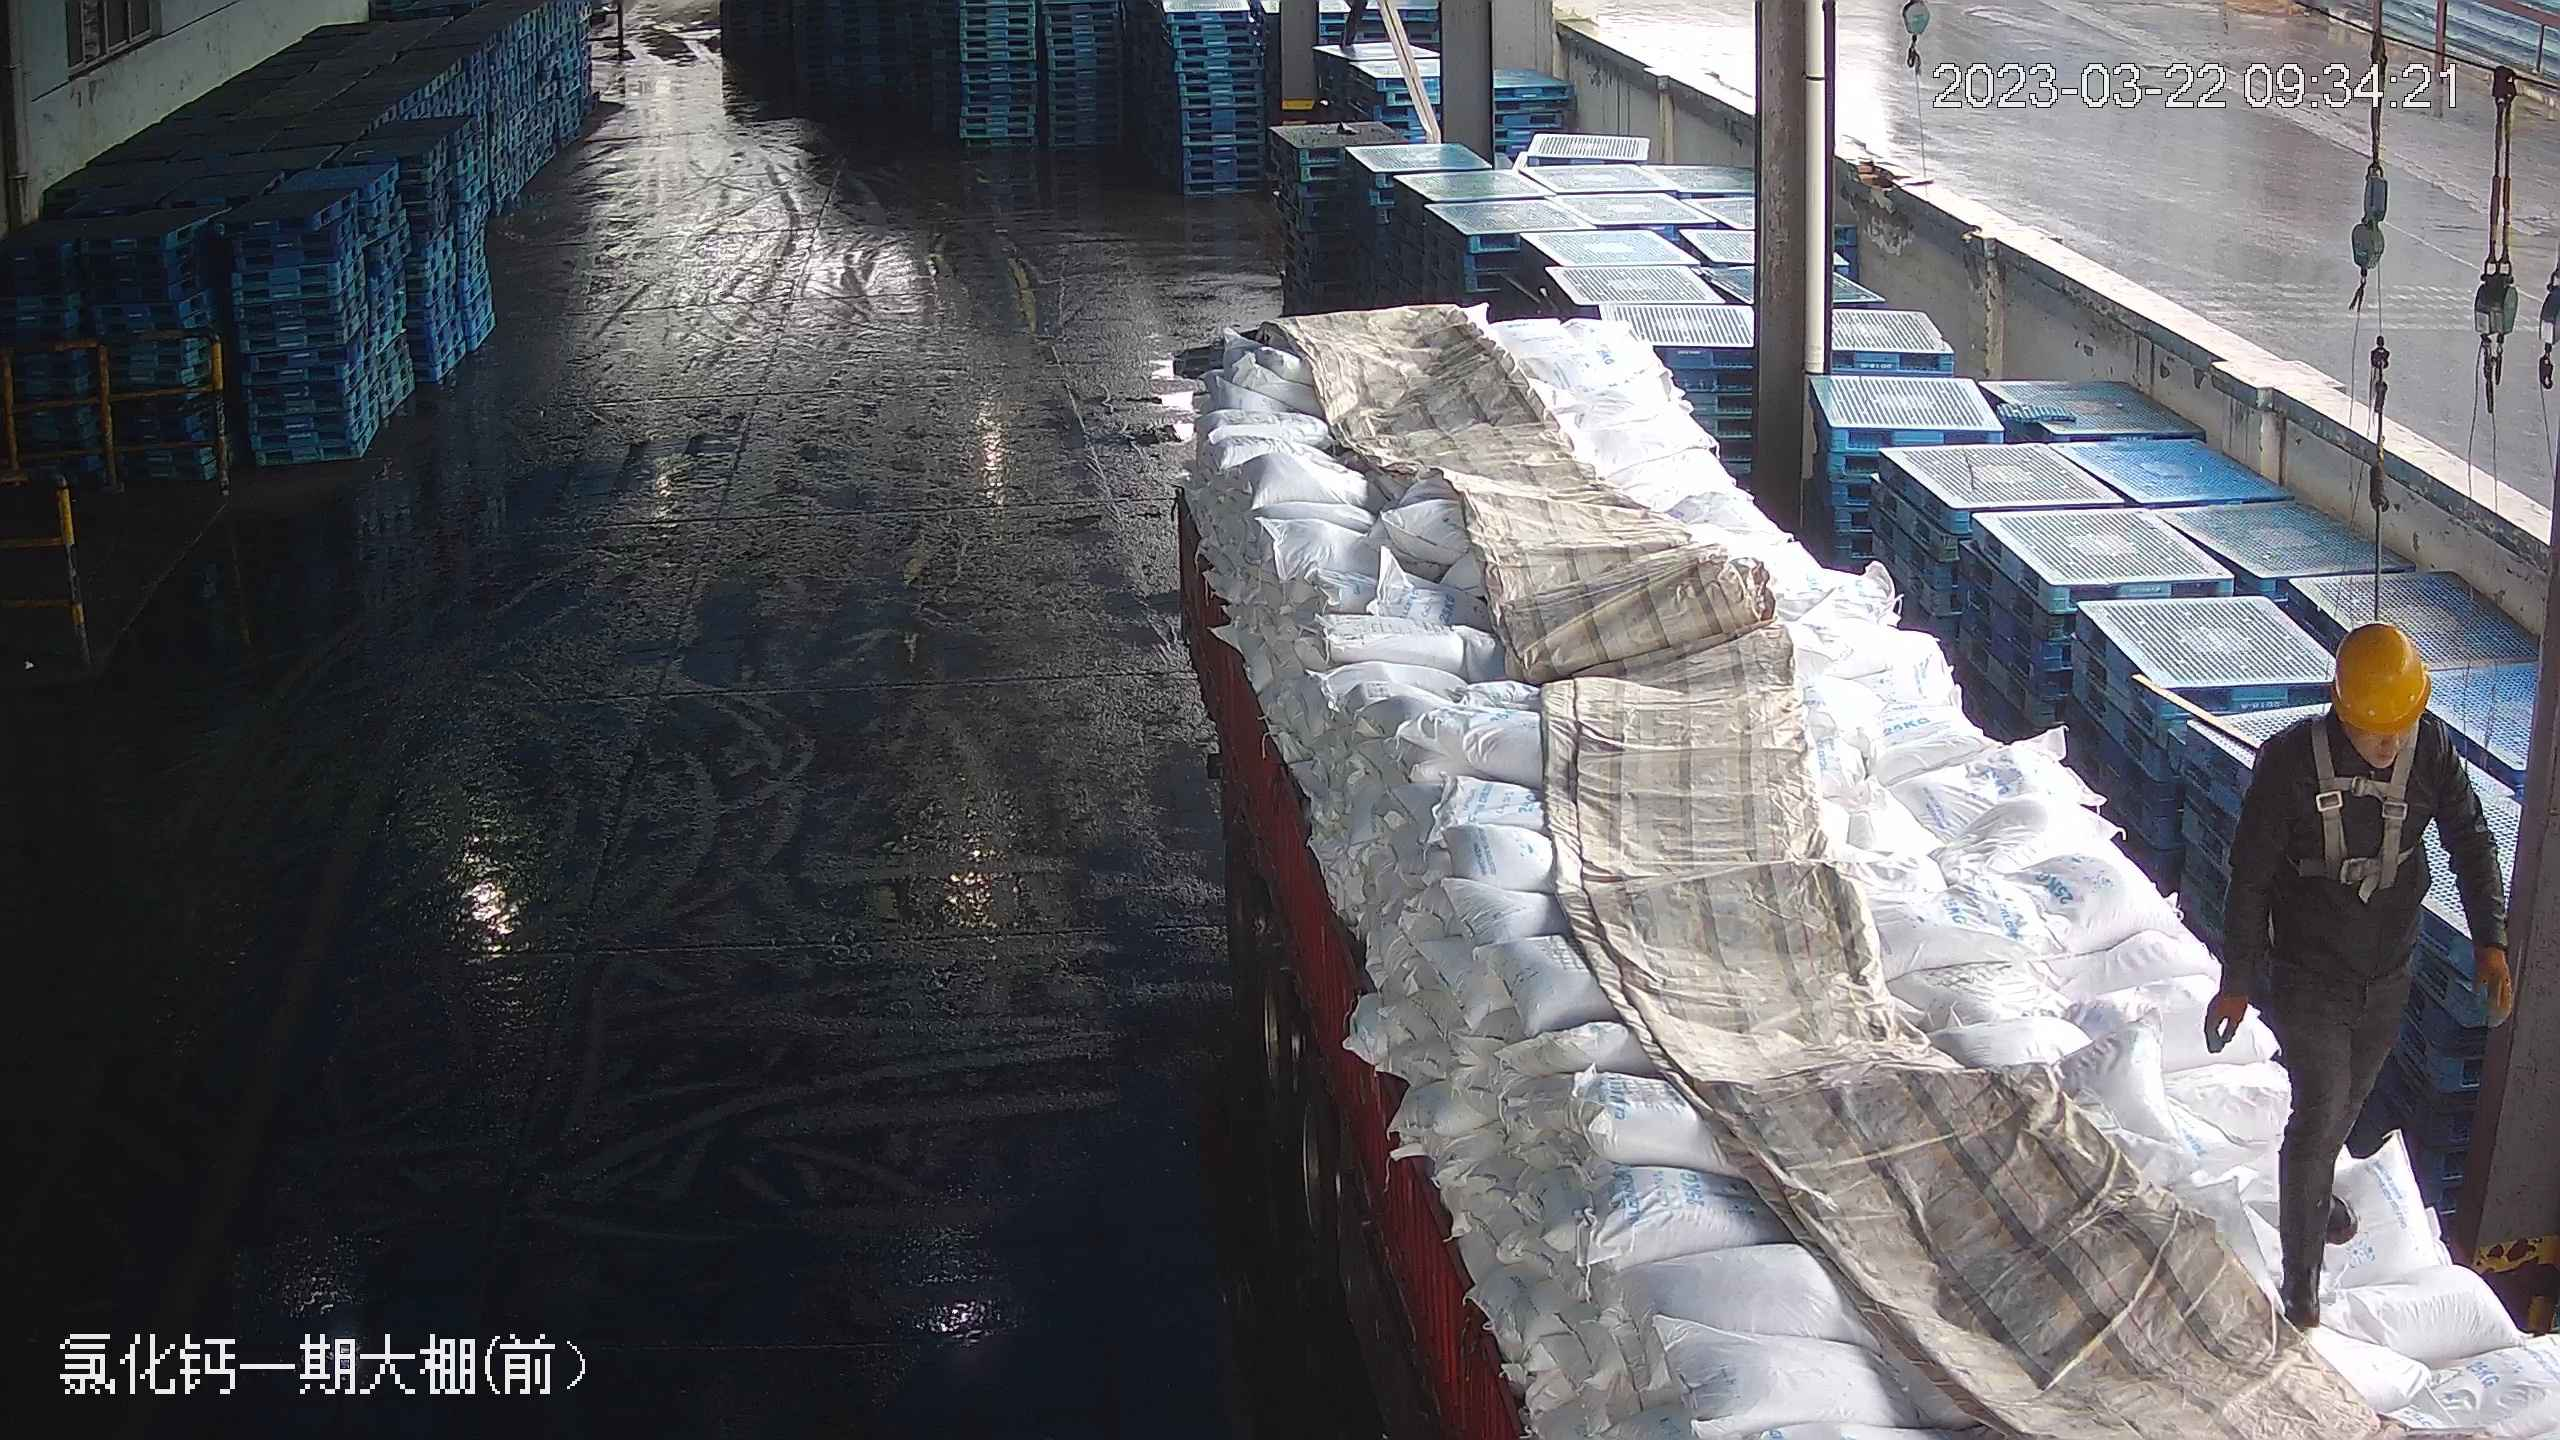belt: (2283, 714, 2434, 892)
head: (2234, 610, 2475, 827)
helmet: (2324, 614, 2432, 734)
people: (2199, 612, 2510, 1343)
truck: (1144, 292, 2551, 1440)
